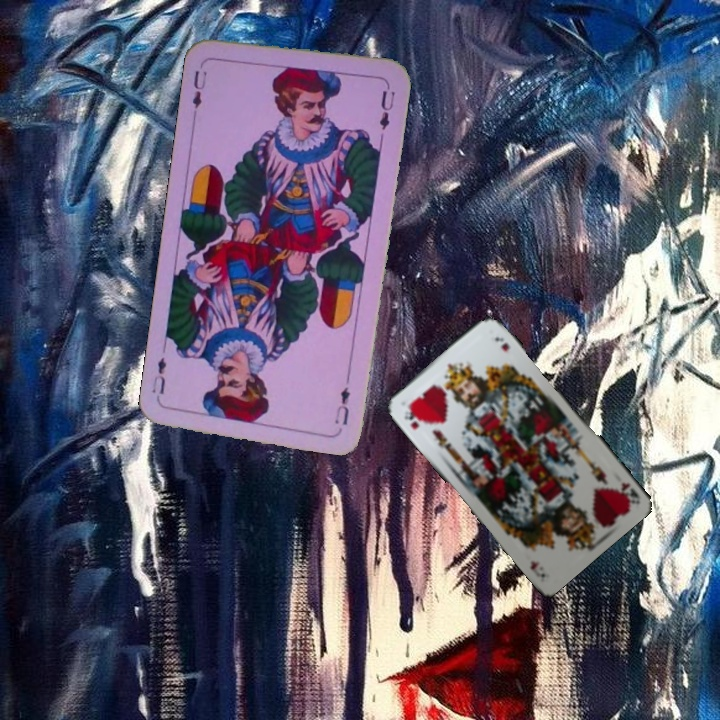EU: (188, 58, 210, 111), (330, 383, 353, 428)
HK: (616, 479, 642, 506), (400, 402, 423, 432)
